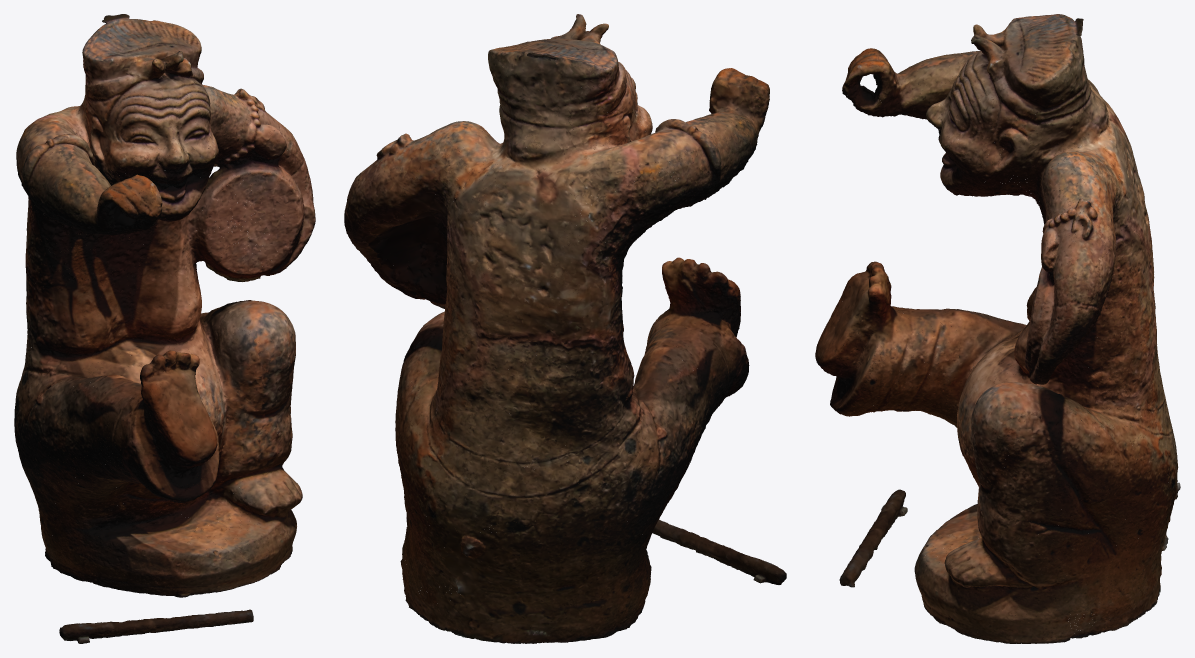
The model's file is storyteller.glb.
The picture shows the model from 3 angles, left to right: view 1: azimuth 30°, elevation 25°; view 2: azimuth 150°, elevation 25°; view 3: azimuth 270°, elevation 25°; orthographic projection. The views are drawn at different scales.
Visible parts, largest first — view 1: mesh_22, mesh_21, mesh_16, mesh_0, mesh_8, mesh_20, mesh_17, mesh_14, mesh_19, mesh_11, mesh_23, mesh_18 (+13 smaller); view 2: mesh_5, mesh_8, mesh_7, mesh_12, mesh_3, mesh_9, mesh_17, mesh_16, mesh_23, mesh_4, mesh_6, mesh_15 (+13 smaller); view 3: mesh_10, mesh_23, mesh_21, mesh_20, mesh_3, mesh_2, mesh_13, mesh_4, mesh_1, mesh_14, mesh_5, mesh_0 (+12 smaller).
Part boxes in pixels (x1,y1,x2,y2): mesh_22: (52,98,312,623); mesh_21: (47,404,302,640); mesh_16: (15,87,291,487); mesh_0: (23,82,275,495); mesh_8: (21,98,256,342); mesh_20: (45,14,294,597); mesh_17: (19,132,217,501); mesh_14: (30,22,265,593); mesh_19: (32,116,243,477); mesh_11: (41,87,289,593); mesh_23: (119,98,315,446); mesh_18: (43,115,219,493); mesh_5: (396,145,720,548); mesh_8: (423,92,747,534); mesh_7: (417,69,686,520); mesh_12: (400,498,786,642); mesh_3: (353,18,739,421); mesh_9: (383,121,699,527); mesh_17: (415,105,749,538); mesh_16: (344,122,697,538); mesh_23: (355,100,532,416); mesh_4: (437,121,721,552); mesh_6: (413,86,702,552); mesh_15: (438,417,704,643); mesh_10: (1010,116,1165,561); mesh_23: (971,91,1153,529); mesh_21: (843,430,1157,643); mesh_20: (843,14,1110,643); mesh_3: (830,37,1154,428); mesh_2: (839,93,1013,425); mesh_13: (850,480,1180,642); mesh_4: (992,107,1155,427); mesh_1: (850,54,992,477); mesh_14: (952,25,1162,643); mesh_5: (1032,174,1178,529); mesh_0: (910,78,1033,486).
Size of the model in its own units: 18.87 by 28.96 by 17.4.
1 material, 1 textured.
